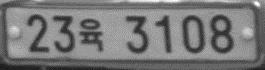0: (181, 14, 205, 54)
1: (150, 13, 175, 54)
2: (25, 13, 51, 54)
3: (123, 14, 149, 55), (50, 14, 76, 54)
8: (209, 12, 234, 54)
육: (76, 16, 105, 54)
